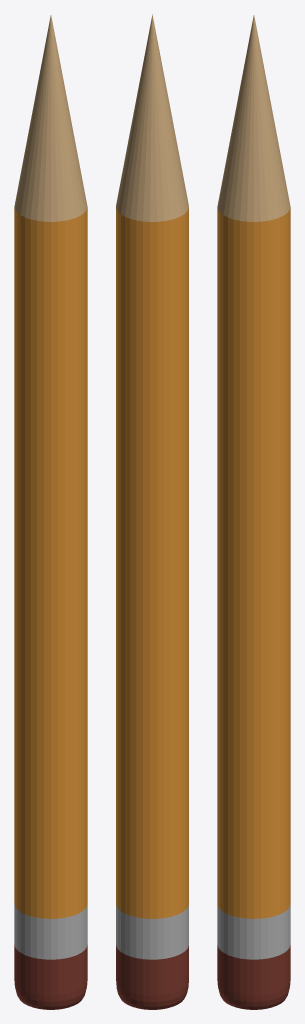
Rendered from pencil.fbx.
3 renders of one model, left to right at view 1: azimuth 90°, elevation 25°; view 2: azimuth 210°, elevation 25°; view 3: azimuth 270°, elevation 25°, orthographic.
Parts seen in each view (by area): view 1: Cylinder; view 2: Cylinder; view 3: Cylinder.
Boxes of the visible parts, <box> form: Cylinder: <box>14,15,87,1009</box>; Cylinder: <box>116,14,188,1009</box>; Cylinder: <box>217,15,290,1009</box>.
Bounding box in the file's own units: 1.6 × 23.78 × 1.6.
